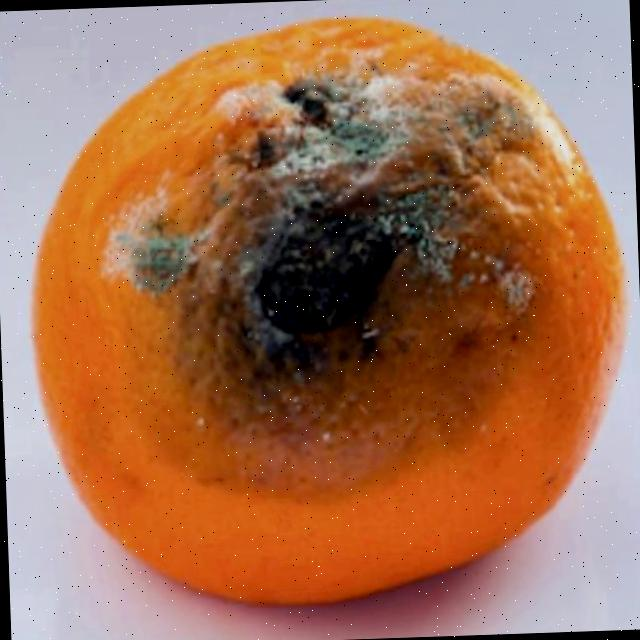rotten orange: (18, 4, 638, 616)
